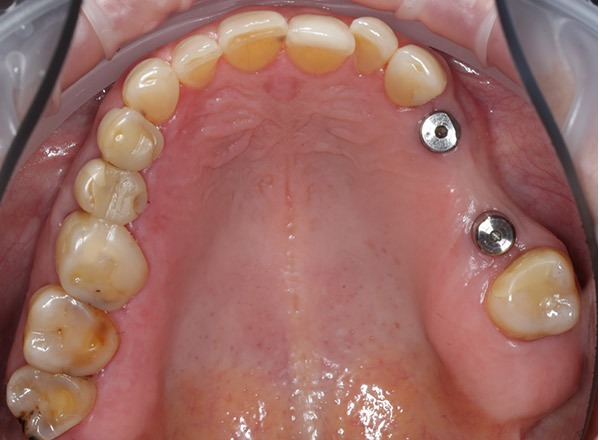UL1BC_decay: (415, 103, 471, 156)
UL1M_decay: (466, 210, 523, 261)
UL2BC_decay: (434, 159, 496, 211)
UL2M_healthy: (495, 259, 580, 336)
UL3M_decay: (500, 340, 576, 406)
ULCI_healthy: (288, 14, 354, 74)
ULC_healthy: (386, 46, 445, 105)
ULLI_healthy: (352, 15, 398, 72)
UR1BC_healthy: (97, 117, 155, 168)
UR1M_decay: (59, 218, 145, 298)
UR2BC_decay: (76, 166, 145, 222)
UR2M_decay: (24, 294, 118, 375)
UR3M_decay: (7, 371, 94, 438)
URCI_decay: (219, 11, 285, 71)
URC_healthy: (123, 58, 179, 109)
URLI_healthy: (175, 36, 220, 87)
